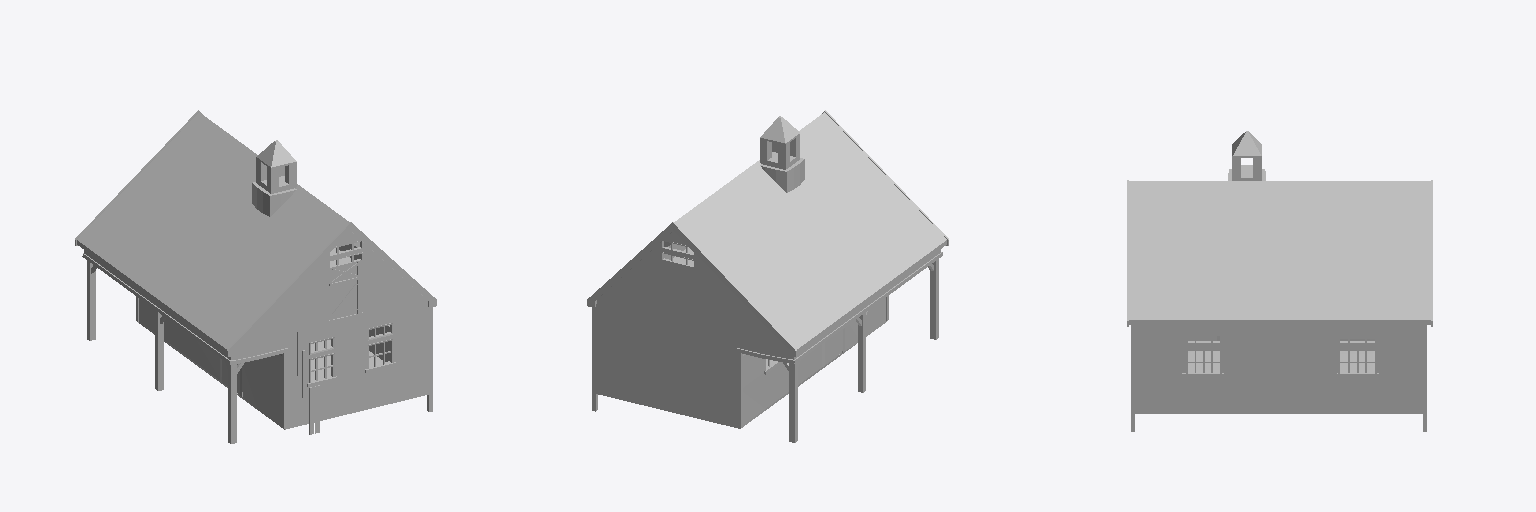
File: barn.obj
3 renders of one model, left to right at view 1: azimuth 30°, elevation 25°; view 2: azimuth 150°, elevation 25°; view 3: azimuth 270°, elevation 25°, orthographic.
Parts seen in each view (by area): view 1: Cube.030; view 2: Cube.030; view 3: Cube.030.
Boxes of the visible parts, x1,y1,x2,y2 form: Cube.030: [75, 110, 436, 443]; Cube.030: [587, 110, 948, 442]; Cube.030: [1127, 131, 1432, 431].
Size of the model in its own units: 14.03 by 16.09 by 17.74.